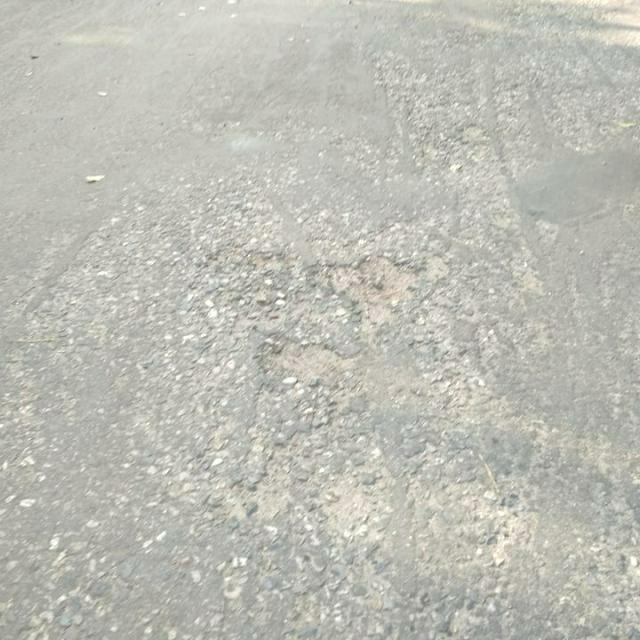Pothole: (329, 252, 420, 332), (261, 335, 348, 382)
